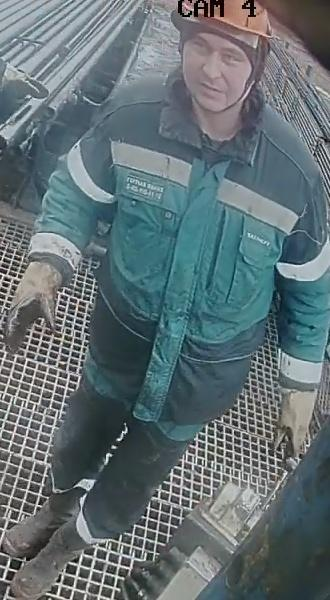gloves: (5, 255, 66, 356), (271, 377, 320, 471)
helmet: (172, 0, 277, 55)
vest: (66, 81, 317, 378)
